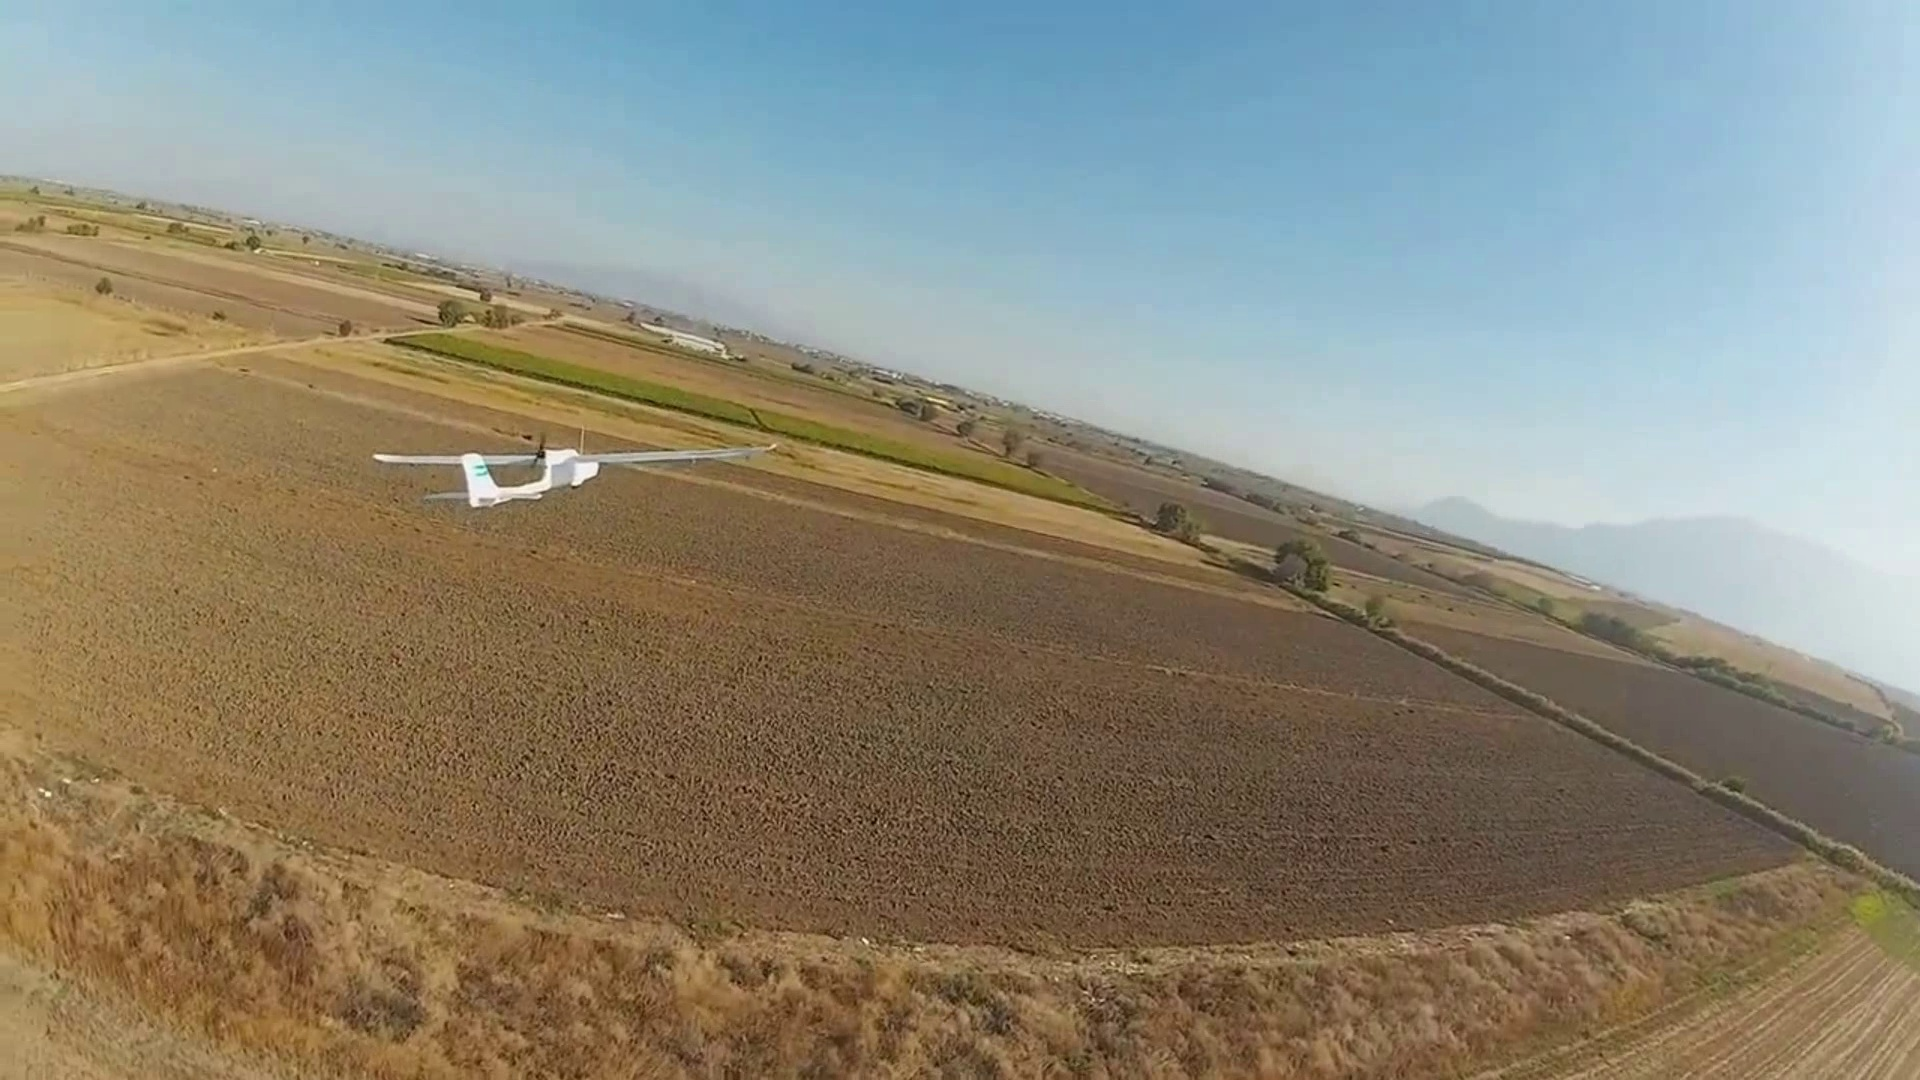airplane: (373, 444, 601, 508)
